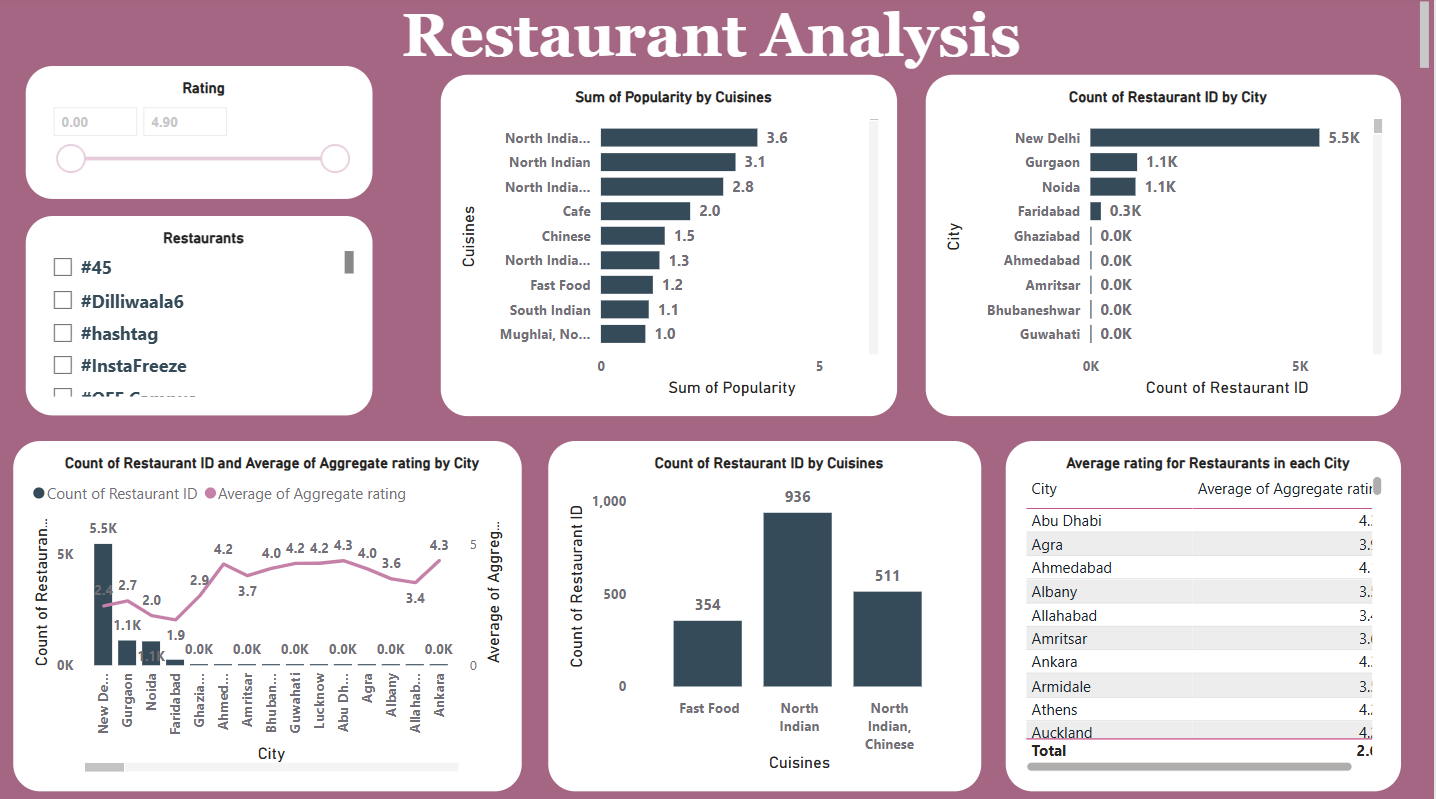

What the dashboard file says about the page in this screenshot:
{"tool":"powerbi","page":{"name":"Page 1","canvas":[1280,720],"ordinal":1},"visuals":[{"type":"textbox","box":[0,0,1280,70],"z":0},{"type":"clusteredColumnChart","fields":{"Category":["Dataset.Cuisines"],"Y":["CountNonNull(Dataset.Restaurant ID)"]},"box":[490.5,396.8,385.2,311.6],"z":1000},{"type":"clusteredBarChart","fields":{"Category":["Dataset.Cuisines"],"Y":["Sum(Dataset.Popularity)"]},"box":[395.7,70,406.6,304],"z":2000},{"type":"clusteredBarChart","fields":{"Category":["Dataset.City"],"Y":["CountNonNull(Dataset.Restaurant ID)"]},"box":[827.6,70,423.5,304],"z":3000},{"type":"lineStackedColumnComboChart","fields":{"Category":["Dataset.City"],"Y2":["Avg(Dataset.Aggregate rating)"],"Y":["CountNonNull(Dataset.Restaurant ID)"]},"box":[14.4,396.8,453,311.6],"z":4000},{"type":"slicer","title":"Rating","fields":{"Values":["Dataset.Aggregate rating"]},"box":[26,62,308.8,118.3],"z":5000},{"type":"tableEx","title":"Average  rating for Restaurants in each City","fields":{"Values":["Dataset.City","Avg(Dataset.Aggregate rating)"]},"box":[898.8,396.8,352,311.6],"z":6000},{"type":"slicer","title":"Restaurants","fields":{"Values":["Dataset.Restaurant Name"]},"box":[26,196.2,308.8,177.5],"z":7000}]}

Visuals, with their boxes in screenshot pixels (x1, y1, x2, y2), scaled from the page's 1280x720 canvas onto the 1436x799 screenshot:
textbox: [0, 0, 1435, 78]
clusteredColumnChart - Dataset.Cuisines x CountNonNull(Dataset.Restaurant ID): [550, 440, 982, 786]
clusteredBarChart - Dataset.Cuisines x Sum(Dataset.Popularity): [444, 78, 900, 415]
clusteredBarChart - Dataset.City x CountNonNull(Dataset.Restaurant ID): [928, 78, 1404, 415]
lineStackedColumnComboChart - Dataset.City x Avg(Dataset.Aggregate rating): [16, 440, 524, 786]
"Rating" slicer: [29, 69, 376, 200]
"Average  rating for Restaurants in each City" tableEx: [1008, 440, 1403, 786]
"Restaurants" slicer: [29, 218, 376, 415]
